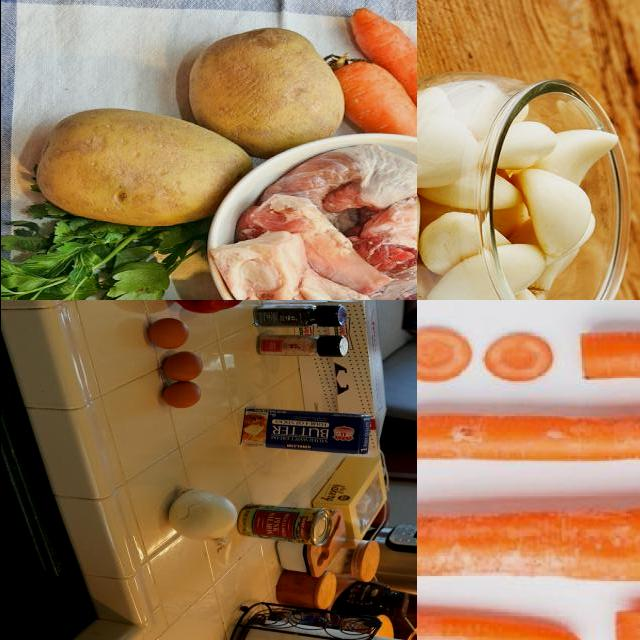bell_pepper: (251, 303, 349, 335), (164, 301, 250, 317)
carrot: (417, 497, 640, 588), (417, 407, 640, 472), (351, 7, 417, 205), (417, 603, 586, 640), (561, 326, 640, 391)
egg: (147, 316, 192, 352), (159, 353, 205, 385), (158, 384, 204, 413)
garlic: (417, 82, 613, 301)
onion: (163, 486, 241, 549)
potato: (28, 116, 266, 226), (183, 31, 354, 158)
